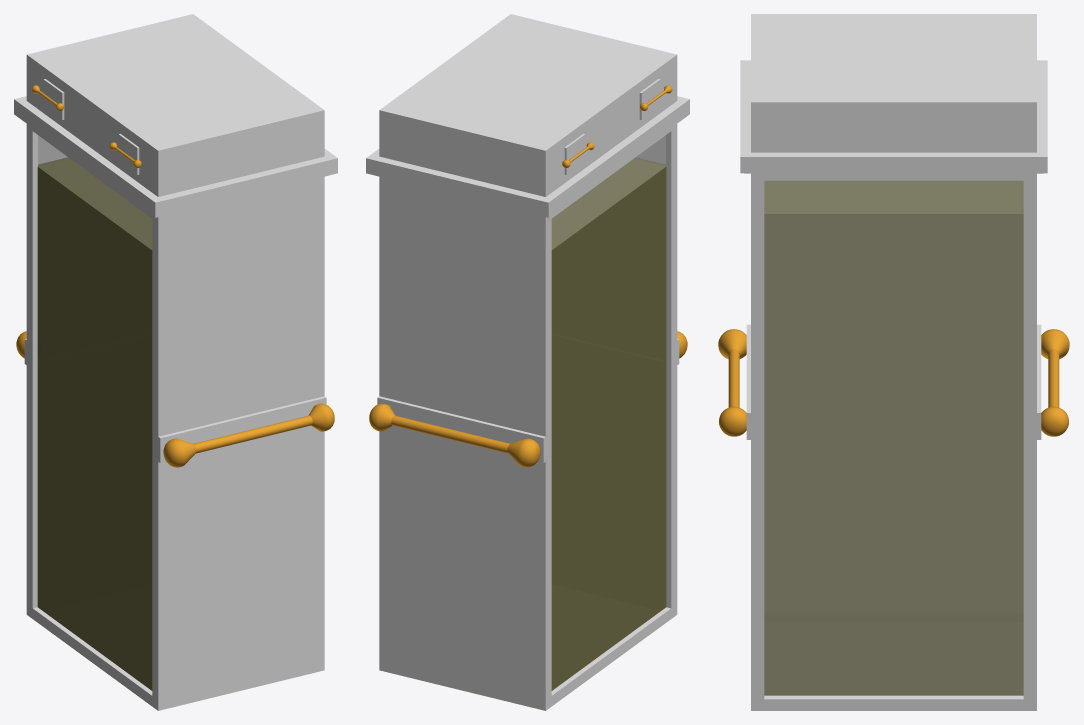
Rendered from HoudiniTank(3.0).fbx.
3 renders of one model, left to right at view 1: azimuth 30°, elevation 25°; view 2: azimuth 150°, elevation 25°; view 3: azimuth 270°, elevation 25°, orthographic. The views are drawn at different scales.
Parts seen in each view (by area): view 1: Tank; view 2: Tank; view 3: Tank.
Boxes of the visible parts, bbox=[...] form: Tank: bbox=[14, 14, 337, 710]; Tank: bbox=[366, 14, 689, 710]; Tank: bbox=[718, 14, 1069, 710].
Size of the model in its own units: 356 by 1034 by 541.
